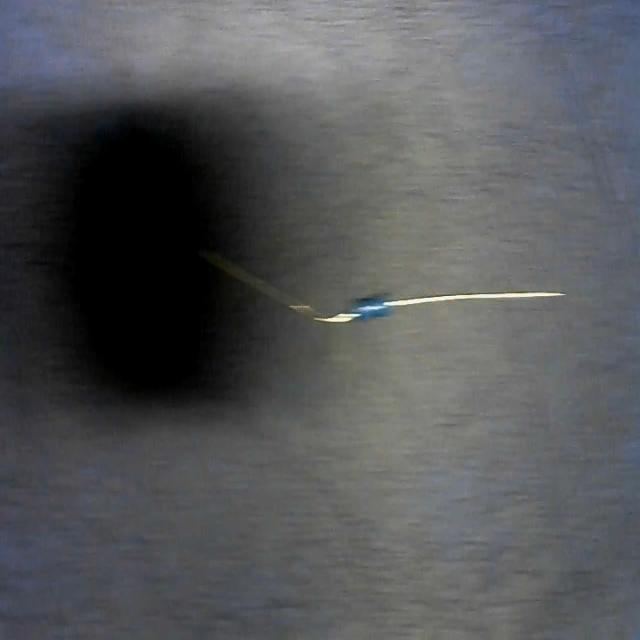resistor: (204, 249, 567, 334)
